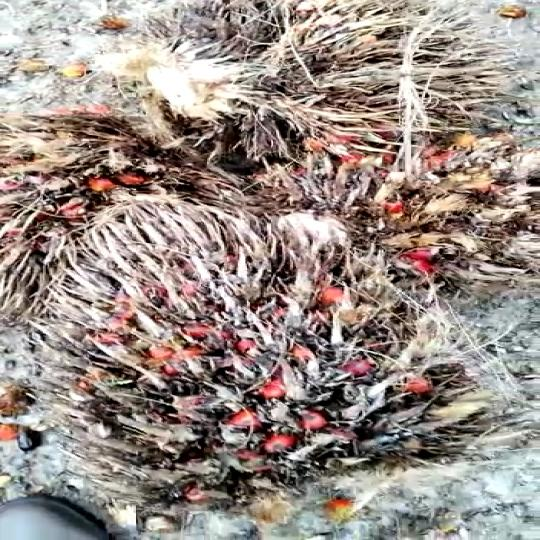terlalu masak: (25, 197, 504, 514), (83, 0, 508, 165)
